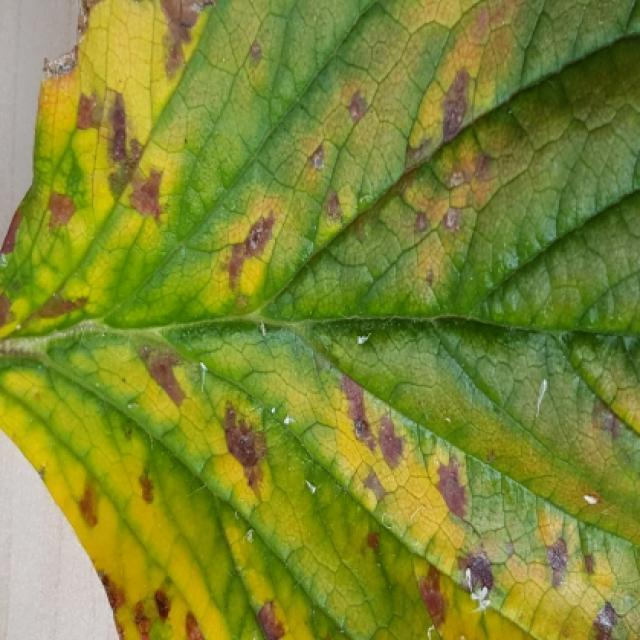Angular Leafspot: (0, 0, 638, 638)
